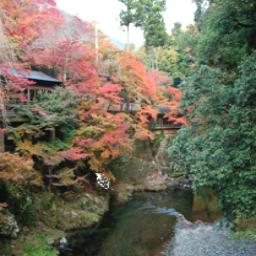Woodpecker: (92, 173, 113, 191)
